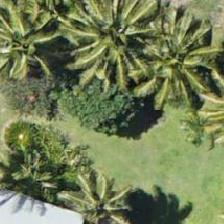coconut_tree: (130, 16, 220, 106), (73, 0, 163, 83), (53, 157, 143, 223), (0, 0, 65, 87), (10, 0, 100, 53)
